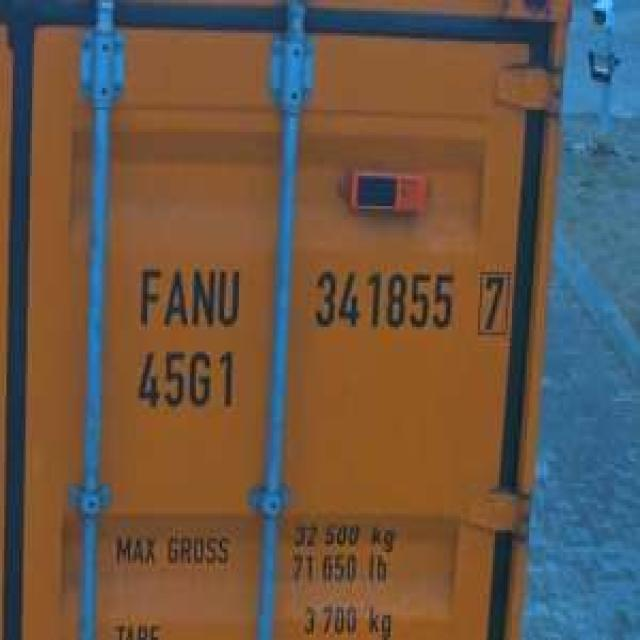dv: (473, 268, 512, 340)
owner: (132, 262, 252, 334)
serial: (310, 260, 454, 336)
size: (131, 343, 237, 415)
